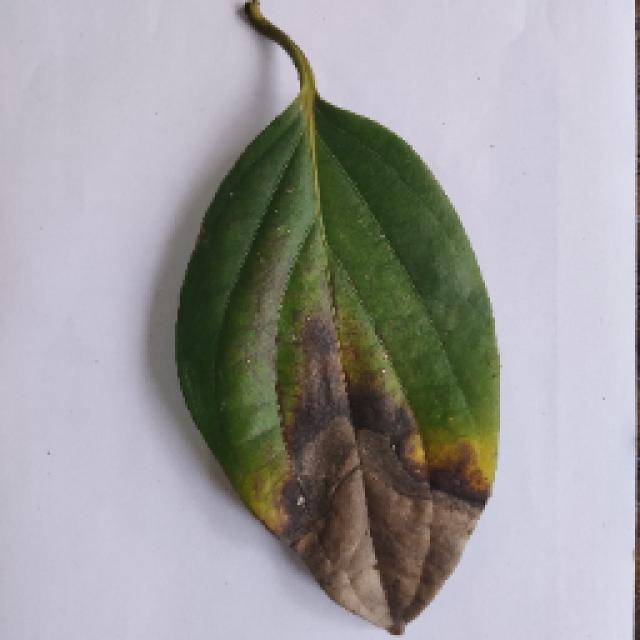footrot: (170, 13, 500, 635)
